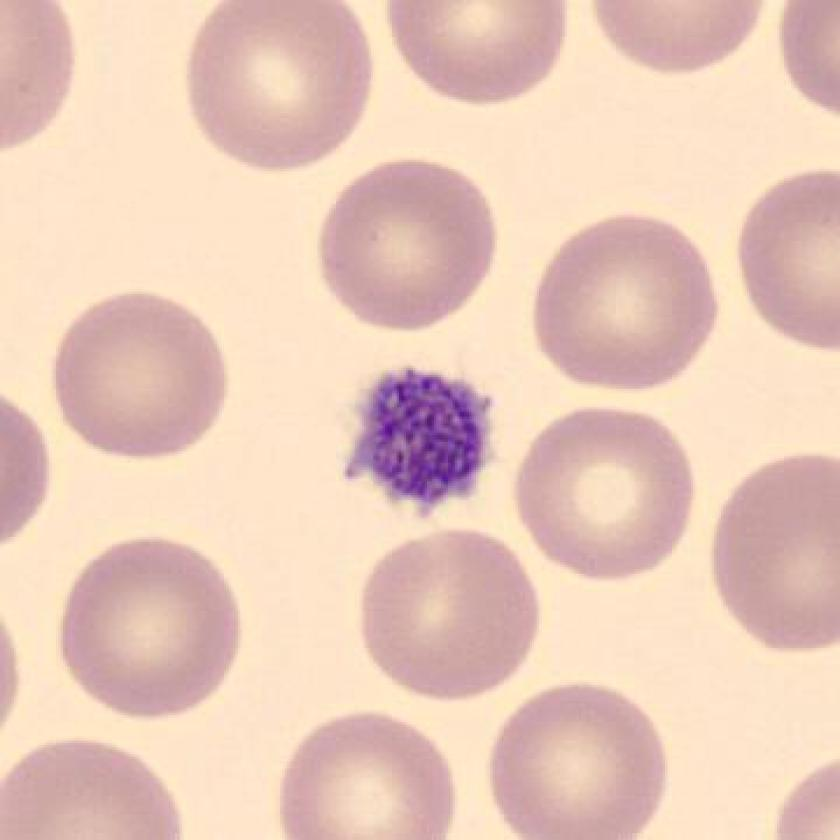platelets: (337, 362, 498, 529)
